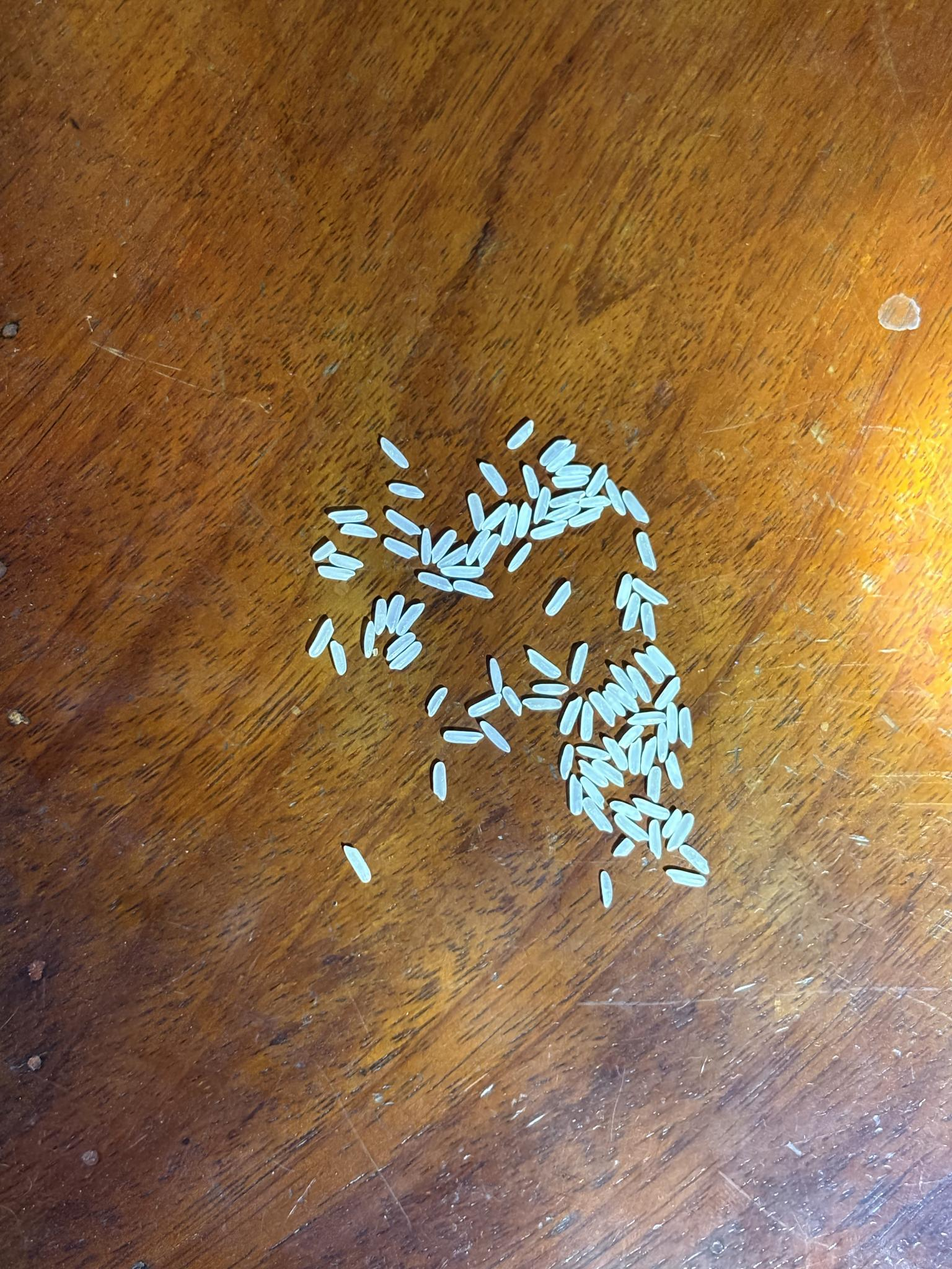Rice-th-y-nh: (527, 649, 561, 679), (344, 845, 371, 882), (609, 665, 638, 699), (583, 798, 612, 832), (667, 815, 694, 851), (480, 721, 510, 753), (606, 684, 639, 713), (615, 814, 648, 842), (633, 579, 668, 605), (635, 652, 664, 683), (480, 463, 507, 496), (309, 620, 333, 657), (589, 692, 615, 726), (396, 603, 424, 634), (628, 665, 652, 701), (623, 490, 649, 523), (546, 582, 572, 615), (386, 510, 420, 535), (680, 845, 709, 874), (381, 438, 409, 468), (648, 645, 676, 675), (466, 530, 490, 565), (593, 760, 624, 787), (655, 678, 681, 710), (390, 644, 422, 670), (603, 737, 628, 770), (560, 697, 582, 734), (386, 633, 416, 660), (431, 530, 456, 562), (499, 504, 518, 546), (546, 446, 576, 472), (581, 777, 605, 809), (633, 798, 669, 819), (579, 760, 607, 787), (636, 532, 656, 569), (482, 503, 509, 530), (508, 421, 534, 449), (540, 440, 569, 465), (454, 581, 494, 599), (586, 465, 608, 497), (469, 694, 501, 716), (640, 737, 658, 776), (508, 543, 532, 572), (418, 572, 452, 592), (479, 534, 500, 566), (533, 487, 551, 524), (386, 595, 404, 632), (606, 480, 625, 515), (571, 644, 588, 683), (667, 870, 706, 887), (384, 538, 417, 558), (438, 545, 468, 567), (610, 801, 642, 821), (665, 753, 683, 788), (570, 508, 603, 527), (615, 574, 633, 608), (623, 594, 640, 630), (619, 725, 644, 749), (568, 775, 583, 815), (531, 522, 566, 539), (433, 762, 448, 801), (678, 707, 693, 746), (427, 687, 447, 716), (546, 504, 580, 521), (627, 739, 643, 775), (604, 691, 626, 717), (503, 686, 522, 716), (468, 494, 484, 529), (516, 503, 532, 538), (372, 599, 388, 634), (559, 744, 575, 779), (628, 711, 665, 726), (662, 809, 681, 838), (580, 702, 594, 741), (523, 697, 562, 711), (522, 466, 539, 498), (331, 641, 347, 675), (641, 603, 656, 639), (666, 702, 679, 743), (648, 820, 662, 858), (549, 492, 584, 507), (442, 565, 482, 578), (318, 566, 355, 580), (647, 767, 662, 801), (329, 510, 368, 523), (362, 621, 376, 657), (489, 658, 503, 694), (330, 554, 363, 569), (389, 484, 424, 498), (341, 524, 376, 538), (533, 683, 568, 696), (577, 746, 609, 760), (444, 731, 481, 743), (313, 542, 336, 561), (420, 528, 432, 564), (557, 464, 591, 476), (553, 477, 589, 488), (601, 872, 612, 907), (614, 839, 634, 857), (580, 496, 610, 508), (657, 724, 668, 756)
